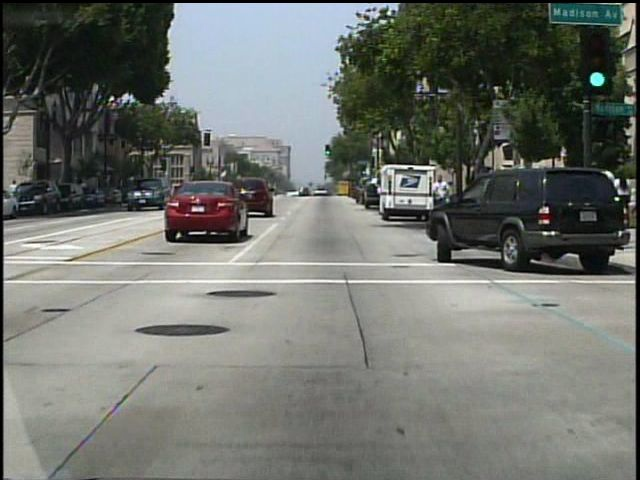person: (429, 172, 452, 224), (351, 179, 367, 209), (11, 179, 22, 207)
